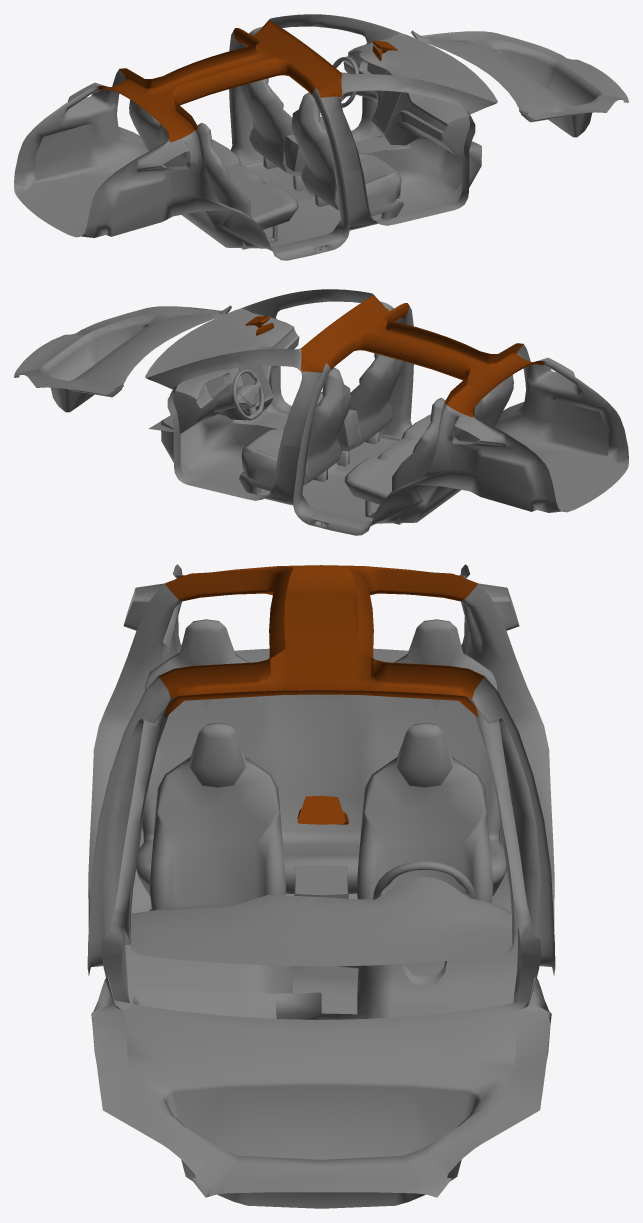
The model's file is Interior_5_seater.obj.
The picture shows the model from 3 angles, top to bottom: view 1: azimuth 30°, elevation 25°; view 2: azimuth 150°, elevation 25°; view 3: azimuth 270°, elevation 25°; orthographic projection. The views are drawn at different scales.
Parts seen in each view (by area): view 1: Interior_5_seater; view 2: Interior_5_seater; view 3: Interior_5_seater.
Boxes of the visible parts, bbox=[...] form: Interior_5_seater: bbox=[14, 14, 628, 260]; Interior_5_seater: bbox=[14, 289, 628, 535]; Interior_5_seater: bbox=[87, 564, 555, 1208].
Size of the model in its own units: 4.9 by 1.31 by 1.75.
